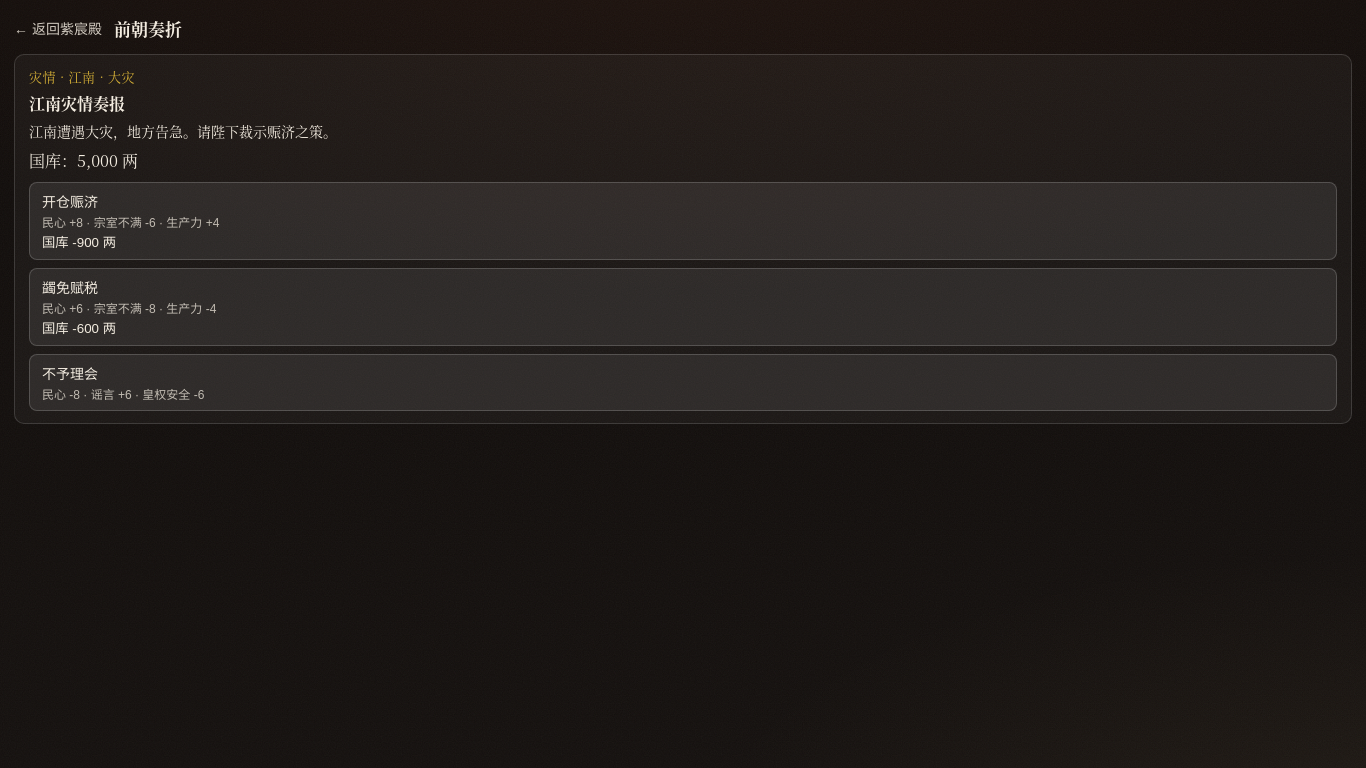
Test: MemorialsScreen — success flow › shows notice and card disappears after resolving an option
The width and height of the screenshot is (1366, 768).
Click the button "不予理会 民心 -8 · 谣言 +6 · 皇权安全 -6": (70, 374) [29,354,1337,411]
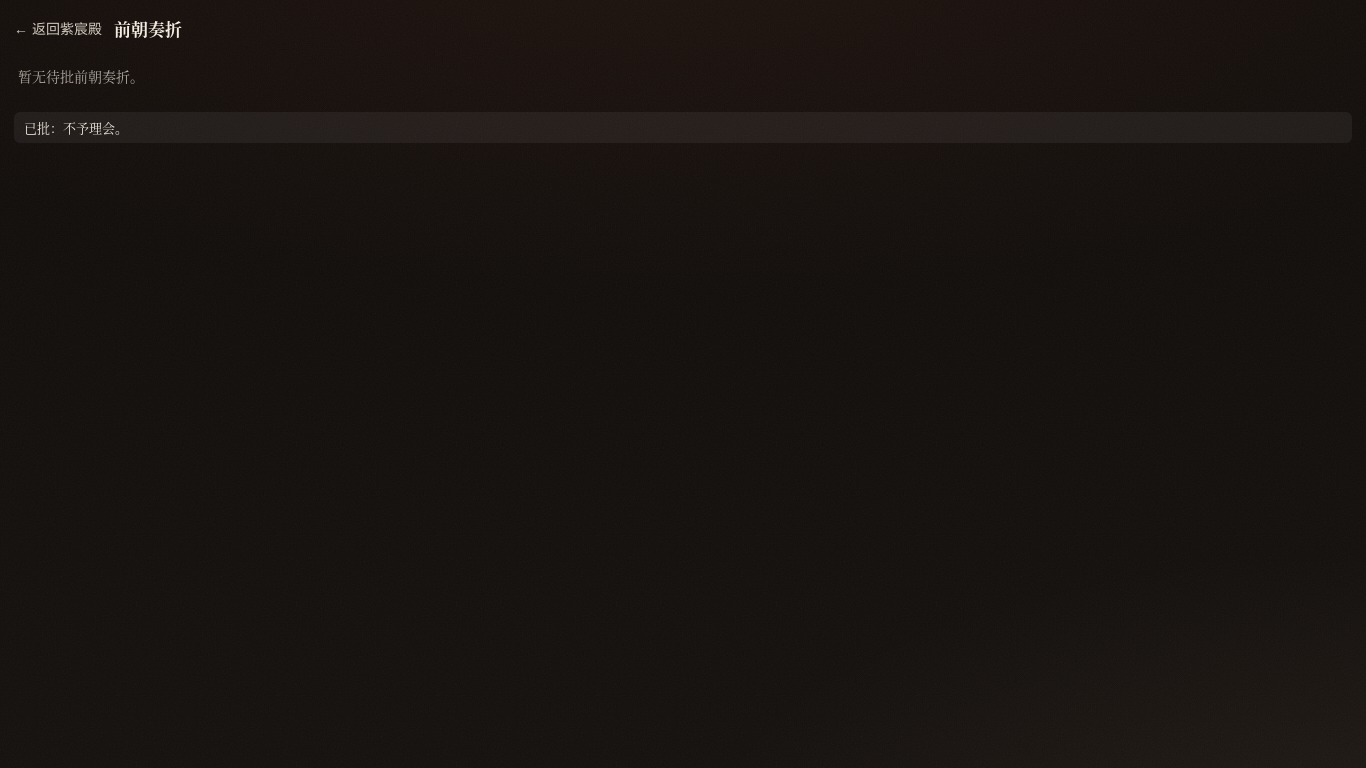
Now the message "已批：不予理会。" is shown, box [14,112,1352,143]
Now the text "灾情 · 江南" is gone
